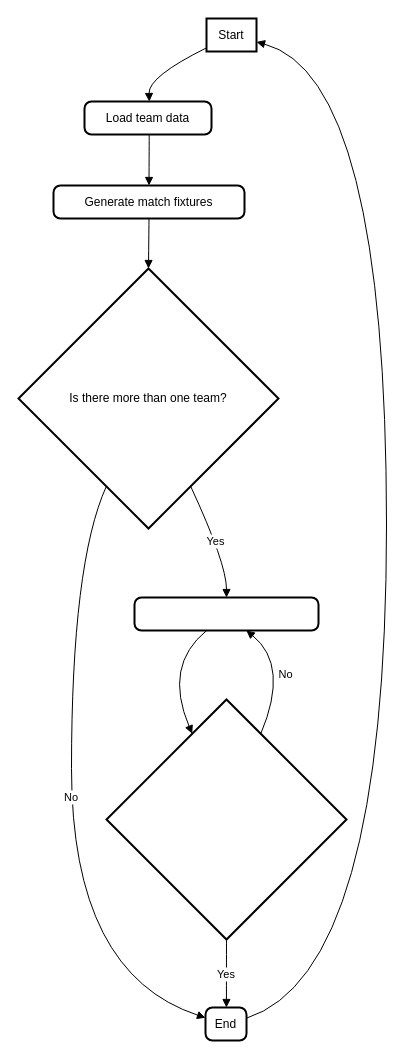
This 404x1058 diagram has some shape labels left out. The shapes that lost their labels are listed below. From the top down, each one's box as (x1, y1, x2, y2) in pixels, then its label:
(133, 596, 319, 631): Create fixture schedule
(105, 698, 347, 940): Are all fixtures generated?
